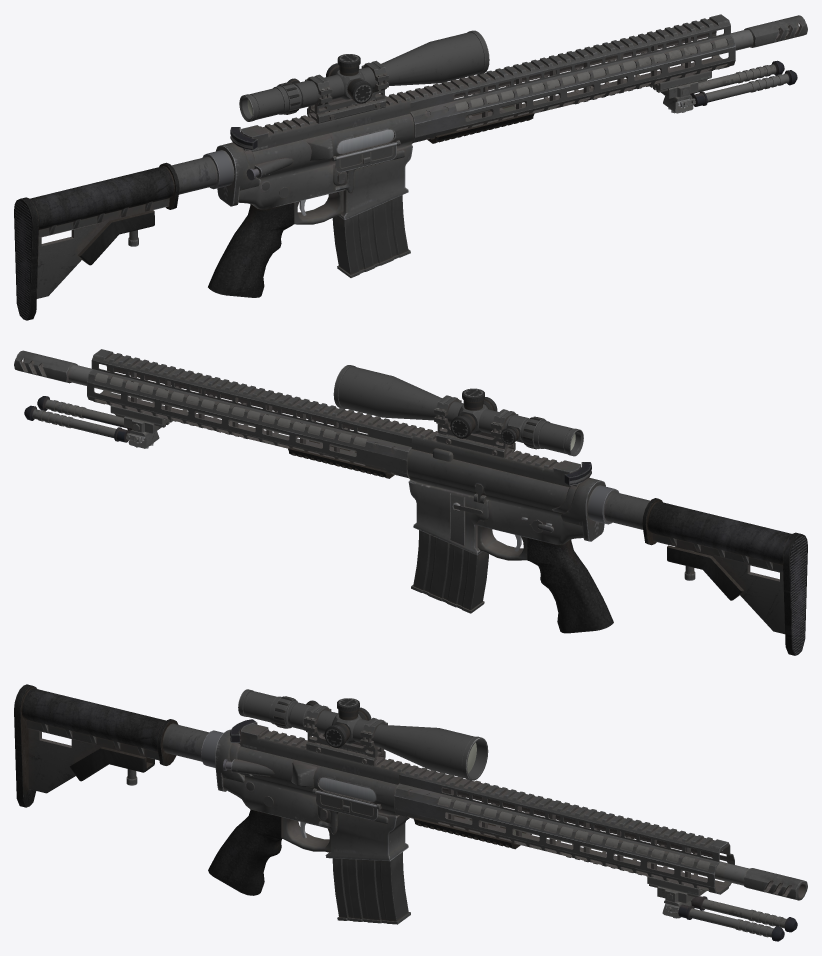
3 views of the same model, one above another, from view 1: azimuth 30°, elevation 25°; view 2: azimuth 150°, elevation 25°; view 3: azimuth 330°, elevation 25° (orthographic).
Visible parts, largest first — view 1: Body, Barrel, Butt, Scope, Magazine, Bipod right, BipodBase, Gate, Bipod left; view 2: Body, Barrel, Butt, Scope, Magazine, Bipod left, BipodBase, Bipod right; view 3: Body, Barrel, Butt, Scope, Magazine, Bipod right, Bipod left, BipodBase, Gate.
Part boxes in pixels (x1,y1,x2,y2): Body: [208, 91, 414, 297]; Barrel: [404, 14, 807, 143]; Butt: [14, 150, 234, 320]; Scope: [239, 30, 489, 123]; Magazine: [332, 195, 410, 277]; Bipod right: [680, 70, 797, 107]; BipodBase: [650, 71, 711, 113]; Gate: [230, 127, 394, 153]; Bipod left: [690, 60, 784, 95]; Body: [407, 427, 613, 633]; Barrel: [14, 349, 417, 478]; Butt: [587, 485, 807, 655]; Scope: [333, 365, 583, 458]; Magazine: [411, 530, 488, 613]; Bipod left: [24, 405, 141, 442]; BipodBase: [110, 405, 172, 448]; Bipod right: [37, 396, 131, 431]; Body: [208, 723, 410, 895]; Barrel: [394, 765, 807, 900]; Butt: [14, 684, 223, 807]; Scope: [238, 689, 488, 780]; Magazine: [332, 852, 410, 924]; Bipod right: [666, 904, 784, 941]; Bipod left: [690, 896, 797, 932]; BipodBase: [647, 876, 706, 918]; Gate: [230, 719, 375, 801].
Size of the model in its own units: 450 by 118 by 29.74.
